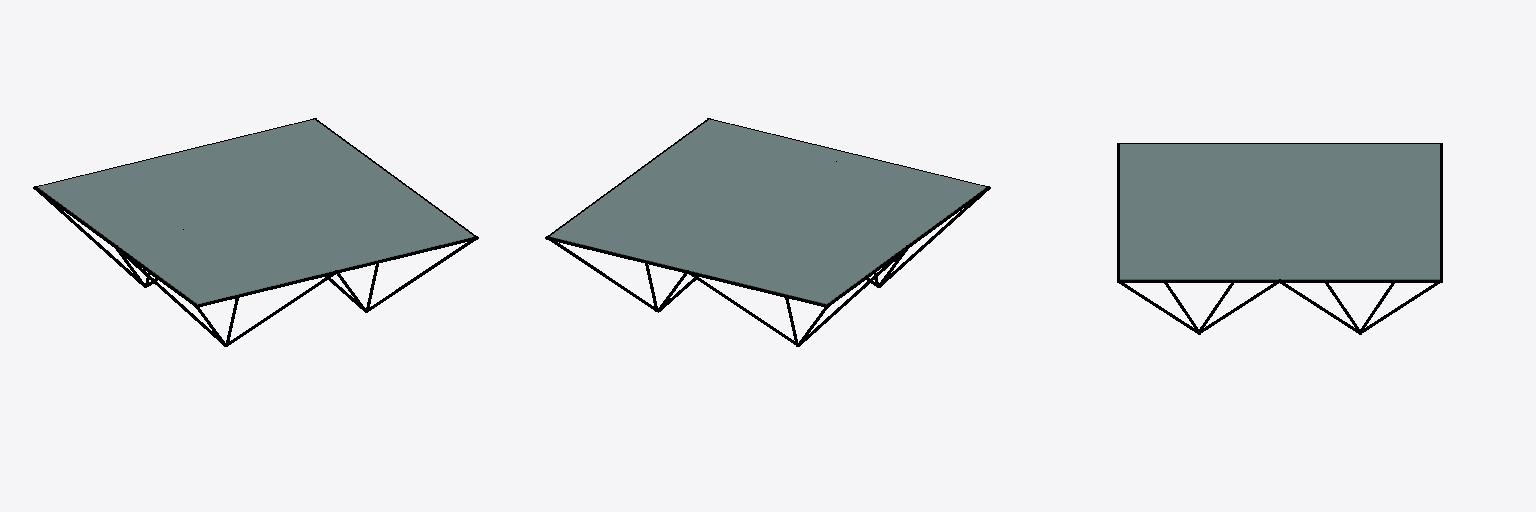
File: salontafel.obj
3 renders of one model, left to right at view 1: azimuth 30°, elevation 25°; view 2: azimuth 150°, elevation 25°; view 3: azimuth 270°, elevation 25°, orthographic.
Parts seen in each view (by area): view 1: piece_1_Cube_1_1_1, piece_2_frame_1_15; view 2: piece_1_Cube_1_1_1, piece_2_frame_1_15; view 3: piece_1_Cube_1_1_1, piece_2_frame_1_15.
Boxes of the visible parts, <box> form: piece_1_Cube_1_1_1: <box>38,119,473,304</box>; piece_2_frame_1_15: <box>33,118,478,346</box>; piece_1_Cube_1_1_1: <box>550,119,985,304</box>; piece_2_frame_1_15: <box>545,118,990,346</box>; piece_1_Cube_1_1_1: <box>1120,144,1439,279</box>; piece_2_frame_1_15: <box>1117,143,1442,334</box>.
Bounding box in the file's own units: 100 × 30 × 100.